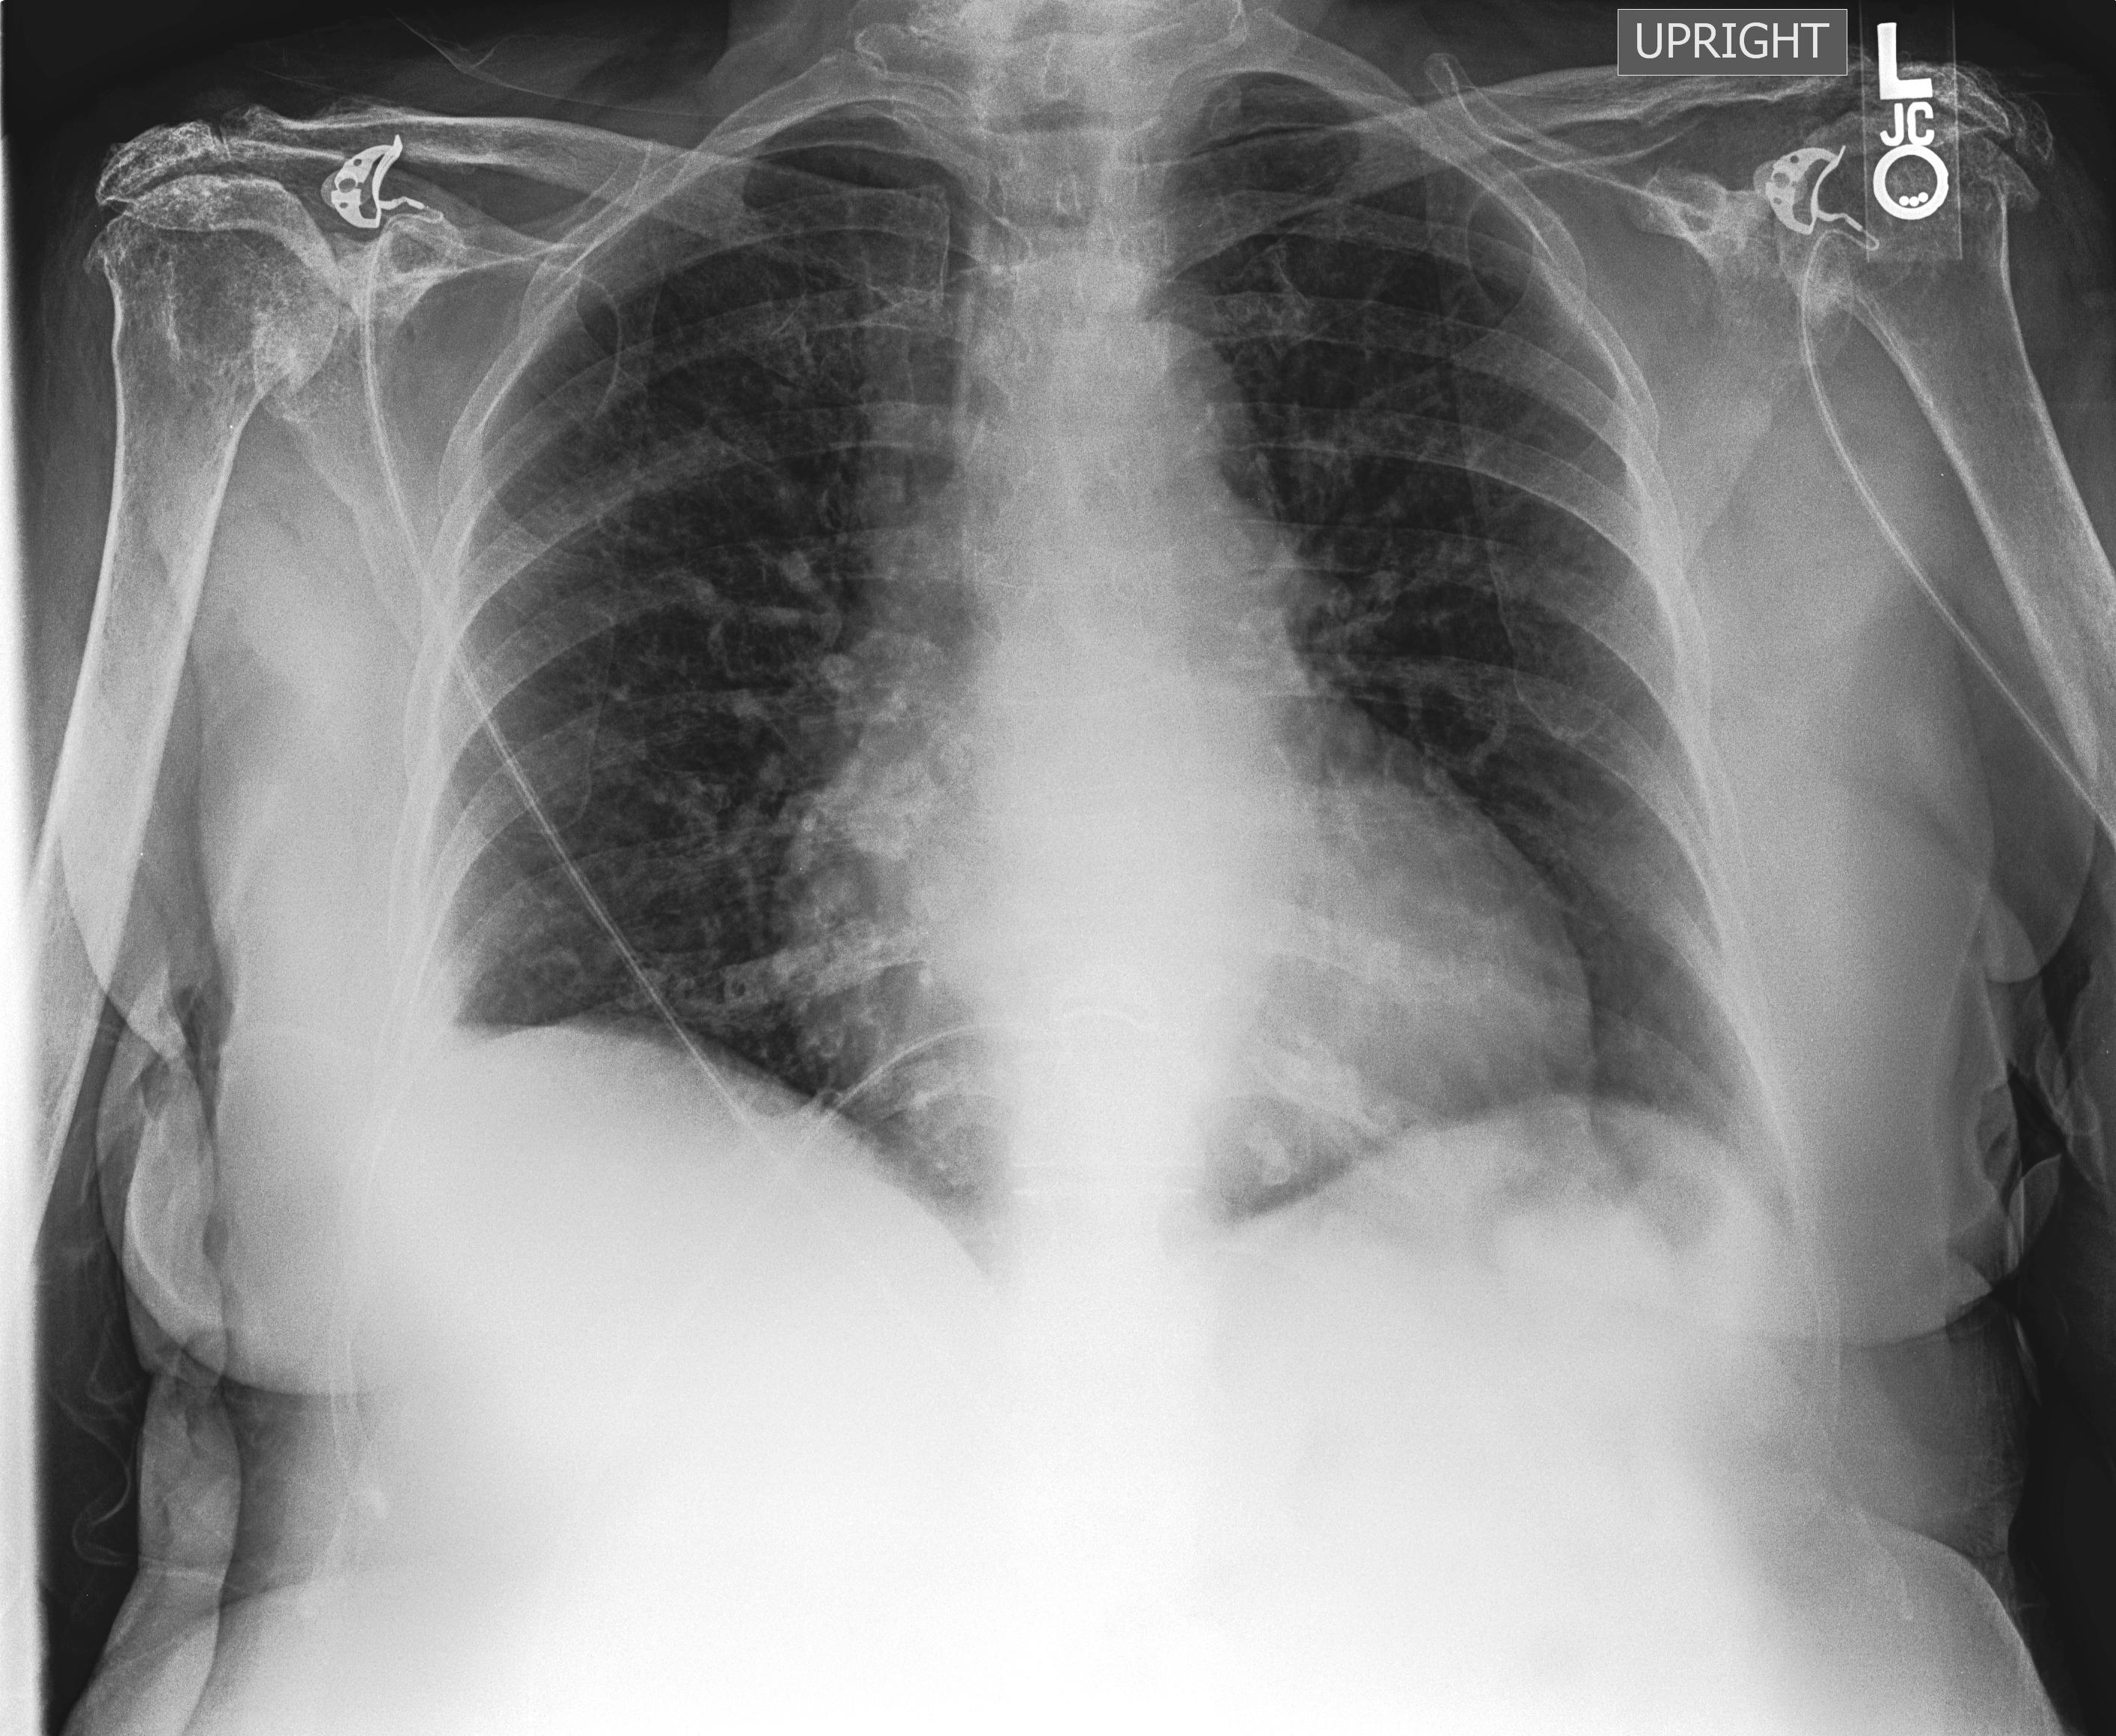Pleural Effusion: (336, 982, 865, 1353)
